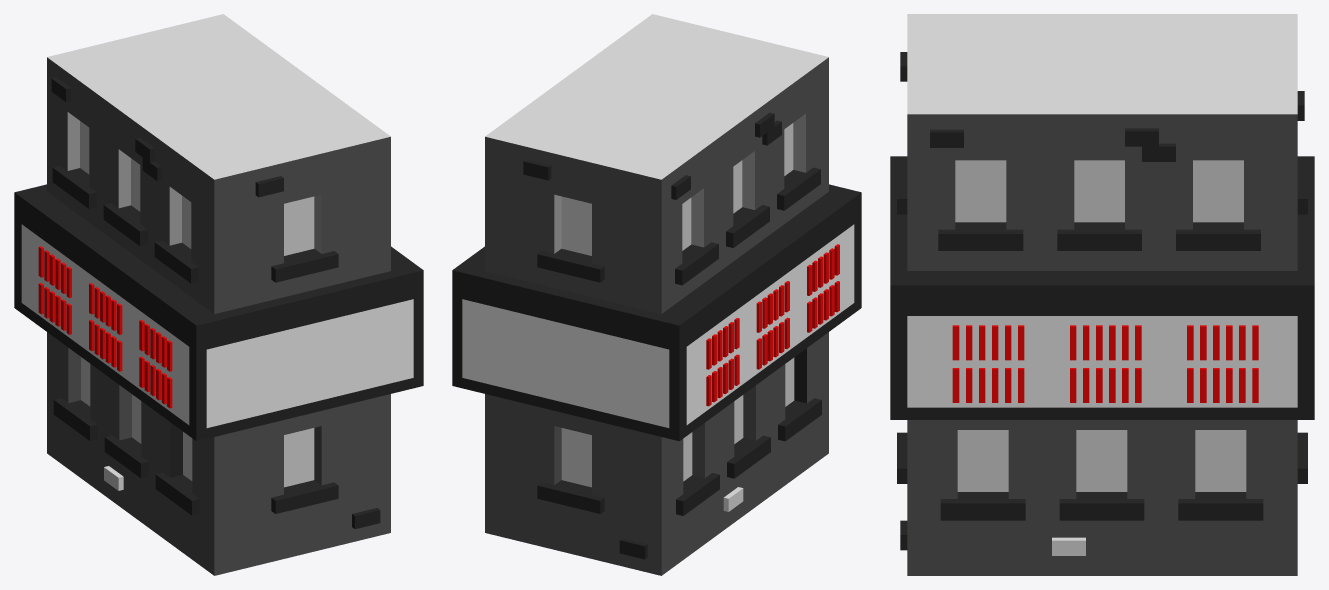
The model's file is Edificio 18.fbx.
3 views of the same model, side by side, from view 1: azimuth 30°, elevation 25°; view 2: azimuth 150°, elevation 25°; view 3: azimuth 270°, elevation 25° (orthographic). The views are drawn at different scales.
Visible parts, largest first — view 1: Pared 1 [4579], [450], [4606], Pared 1 [4573], Luces [1489], Luces [1486], Luces [1480], Luces [1495], Luces [1483], Luces [1492]; view 2: Pared 1 [4573], [450], [4606], Luces [1480], Luces [1489], Pared 1 [4579], Luces [1483], Luces [1486], Luces [1495], Luces [1492]; view 3: [450], [4606], Pared 1 [4579], Pared 1 [4573], Luces [1495], Luces [1489], Luces [1480], Luces [1483], Luces [1486], Luces [1492], [502].
Part boxes in pixels (x1,y1,x2,y2): Pared 1 [4579]: (189,136,423,575); [450]: (21,57,214,575); [4606]: (47,14,390,179); Pared 1 [4573]: (14,184,46,312); Luces [1489]: (88,281,122,334); Luces [1486]: (88,319,122,371); Luces [1480]: (38,244,71,297); Luces [1495]: (139,318,172,371); Luces [1483]: (38,282,71,334); Luces [1492]: (139,356,172,408); Pared 1 [4573]: (452,136,686,575); [450]: (661,57,854,575); [4606]: (485,14,828,179); Luces [1480]: (703,318,739,370); Luces [1489]: (753,281,789,333); Pared 1 [4579]: (829,184,861,312); Luces [1483]: (703,354,739,407); Luces [1486]: (753,317,789,370); Luces [1495]: (804,244,839,297); Luces [1492]: (804,281,839,333); [450]: (907,114,1297,575); [4606]: (907,14,1297,114); Pared 1 [4579]: (890,52,907,550); Pared 1 [4573]: (1297,91,1314,483); Luces [1495]: (1180,325,1258,360); Luces [1489]: (1063,325,1141,360); Luces [1480]: (946,325,1024,360); Luces [1483]: (946,368,1024,402); Luces [1486]: (1063,368,1141,402); Luces [1492]: (1180,368,1258,402); [502]: (1052,537,1085,555).
Bounding box in the file's own units: 362 × 492 × 591.
